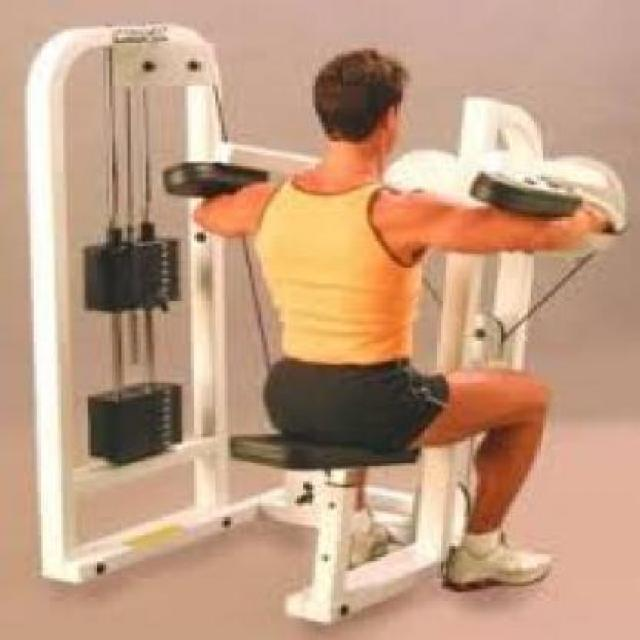lateral raises machine: (28, 28, 629, 622)
